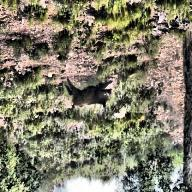boar: (65, 70, 120, 107)
